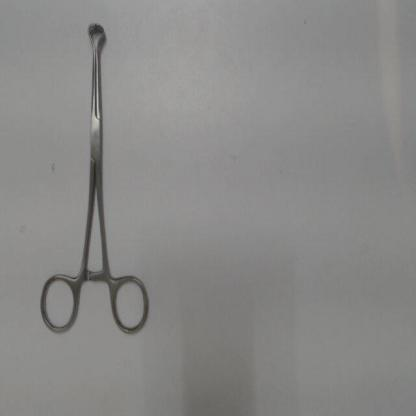Babcock Tissue Forceps: (38, 21, 153, 338)
